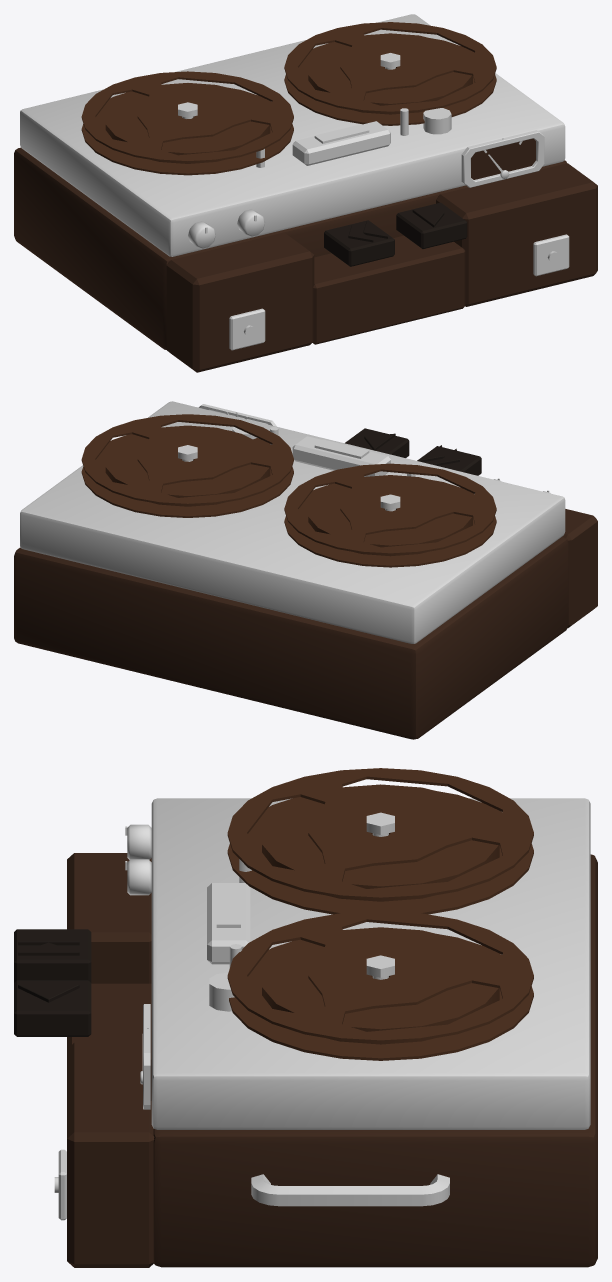
Rendered from field_recorder.glb.
3 views of the same model, one above another, from view 1: azimuth 30°, elevation 25°; view 2: azimuth 150°, elevation 25°; view 3: azimuth 270°, elevation 25° (orthographic). The views are drawn at different scales.
Visible parts, largest first — view 1: field_recorder, reel_l, reel_r, IA_rec_play, IA_rec_rewind; view 2: field_recorder, reel_l, reel_r, IA_rec_play, IA_rec_rewind; view 3: field_recorder, reel_r, reel_l, IA_rec_play, IA_rec_rewind.
Part boxes in pixels (x1,y1,x2,y2): field_recorder: [14, 14, 597, 372]; reel_l: [81, 71, 293, 175]; reel_r: [284, 22, 496, 125]; IA_rec_play: [396, 202, 467, 248]; IA_rec_rewind: [324, 220, 394, 266]; field_recorder: [14, 401, 597, 739]; reel_l: [284, 463, 496, 567]; reel_r: [81, 414, 293, 517]; IA_rec_play: [345, 428, 409, 457]; IA_rec_rewind: [417, 445, 481, 475]; field_recorder: [54, 798, 597, 1267]; reel_r: [227, 911, 533, 1060]; reel_l: [227, 768, 533, 914]; IA_rec_play: [14, 980, 91, 1036]; IA_rec_rewind: [14, 929, 91, 982].
Size of the model in its own units: 0.2966 by 0.1085 by 0.242.
